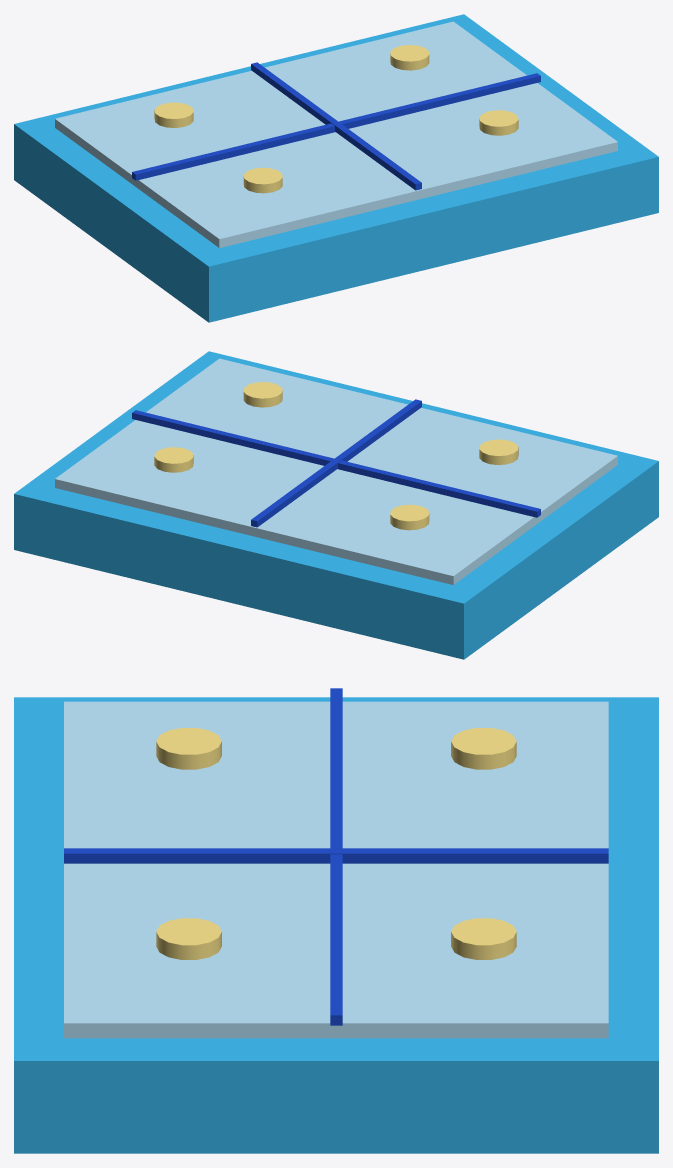
File: toy_barn_button_cushion.glb
3 renders of one model, top to bottom at view 1: azimuth 30°, elevation 25°; view 2: azimuth 150°, elevation 25°; view 3: azimuth 270°, elevation 25°, orthographic. The views are drawn at different scales.
Visible parts, largest first — view 1: solid_2, solid_1, solid_3, solid_4, solid_7, solid_5, solid_8, solid_6; view 2: solid_2, solid_1, solid_3, solid_4, solid_8, solid_6, solid_7, solid_5; view 3: solid_2, solid_1, solid_4, solid_3, solid_5, solid_6, solid_7, solid_8.
Boxes of the visible parts, x1=… form: solid_2: x1=55, y1=21, x2=617, y2=247; solid_1: x1=14, y1=14, x2=658, y2=322; solid_3: x1=132, y1=73, x2=540, y2=180; solid_4: x1=251, y1=62, x2=421, y2=190; solid_7: x1=390, y1=45, x2=429, y2=70; solid_5: x1=154, y1=102, x2=193, y2=127; solid_8: x1=479, y1=110, x2=518, y2=135; solid_6: x1=243, y1=167, x2=282, y2=193; solid_2: x1=55, y1=358, x2=617, y2=584; solid_1: x1=14, y1=351, x2=658, y2=659; solid_3: x1=132, y1=410, x2=540, y2=517; solid_4: x1=251, y1=399, x2=421, y2=527; solid_8: x1=243, y1=382, x2=282, y2=407; solid_6: x1=479, y1=439, x2=518, y2=464; solid_7: x1=154, y1=447, x2=193, y2=472; solid_5: x1=390, y1=504, x2=429, y2=530; solid_2: x1=64, y1=701, x2=608, y2=1038; solid_1: x1=14, y1=697, x2=658, y2=1153; solid_4: x1=64, y1=848, x2=608, y2=863; solid_3: x1=330, y1=688, x2=342, y2=1025; solid_5: x1=451, y1=728, x2=516, y2=769; solid_6: x1=156, y1=728, x2=221, y2=769; solid_7: x1=451, y1=918, x2=516, y2=959; solid_8: x1=156, y1=918, x2=221, y2=959.
Size of the model in its own units: 4.2 by 0.73 by 3.15.
